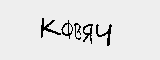В: (73, 19, 84, 42)
К: (39, 17, 61, 38)
Ф: (60, 18, 74, 39)
Ч: (95, 19, 112, 46)
Я: (81, 24, 95, 45)
